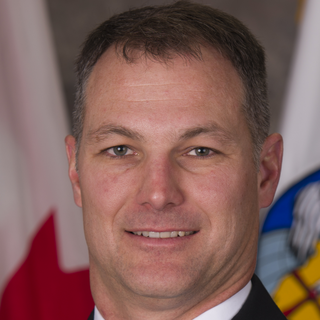eye: (95, 142, 148, 164), (176, 143, 228, 163)
